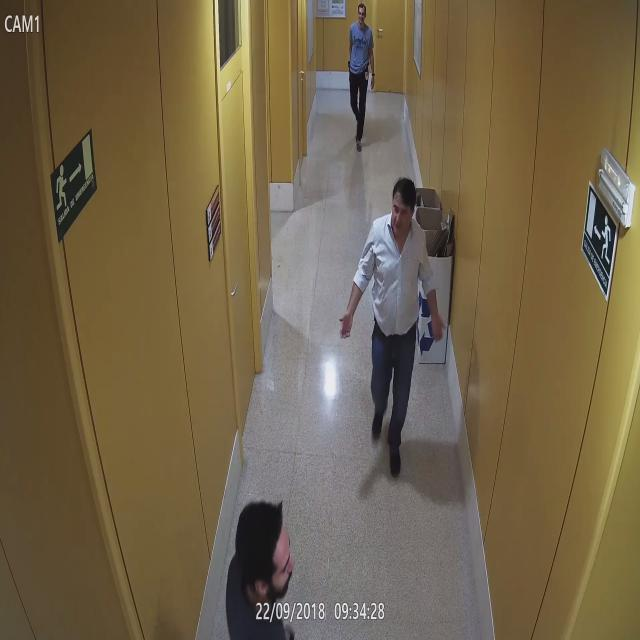Gun: (346, 58, 350, 73)
